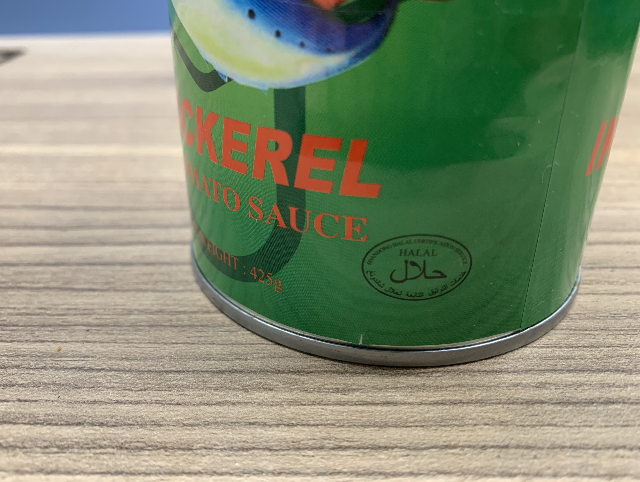halal: (378, 245, 454, 291)
